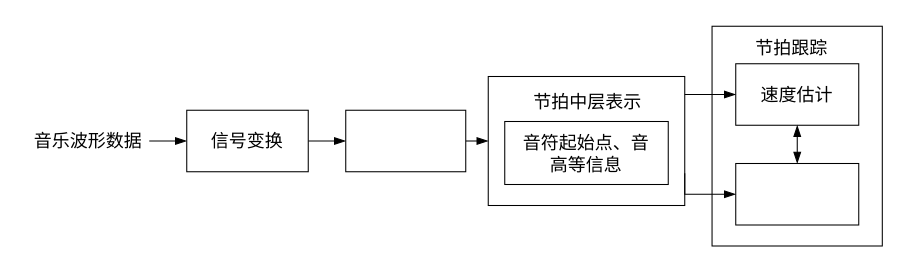
Image size: 909x273. Some labels were removed from this diagram. The box of each missing label's shape, as (x1, y1, x2, y2) in pixels:
特征提取: (345, 109, 466, 172)
节拍推断: (735, 162, 859, 225)
